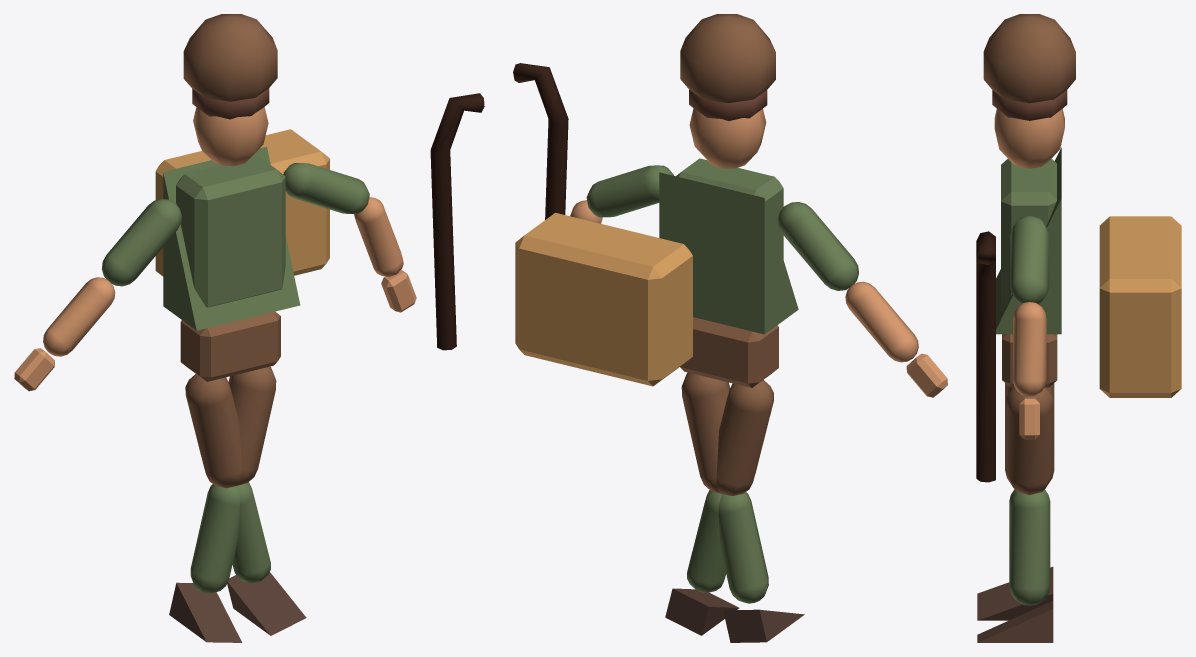
Rendered from adventurer.rustic.glb.
3 renders of one model, left to right at view 1: azimuth 30°, elevation 25°; view 2: azimuth 150°, elevation 25°; view 3: azimuth 270°, elevation 25°, orthographic.
Visible parts, largest first — view 1: torso, accessory.head, tunic, accessory.back, accessory.main-hand, pelvis, thigh.left, shin.right, upper-arm.left, thigh.right, head, upper-arm.right (+8 smaller); view 2: accessory.back, tunic, accessory.head, pelvis, thigh.left, shin.right, upper-arm.left, thigh.right, accessory.main-hand, head, forearm.left, upper-arm.right (+6 smaller); view 3: accessory.back, accessory.head, accessory.main-hand, shin.left, thigh.right, torso, upper-arm.right, head, forearm.right, tunic, foot.left, foot.right (+3 smaller).
Boxes of the visible parts, x1,y1,x2,y2 form: torso: (176, 156, 285, 307); accessory.head: (183, 14, 277, 101); tunic: (163, 146, 300, 330); accessory.back: (155, 129, 329, 276); accessory.main-hand: (430, 93, 484, 350); pelvis: (180, 311, 280, 381); thigh.left: (185, 374, 241, 488); shin.right: (190, 484, 239, 593); upper-arm.left: (102, 198, 181, 286); thigh.right: (228, 366, 276, 485); head: (193, 107, 268, 166); upper-arm.right: (283, 163, 369, 213); accessory.back: (515, 212, 692, 386); tunic: (659, 172, 798, 334); accessory.head: (680, 14, 775, 103); pelvis: (680, 317, 778, 387); thigh.left: (716, 380, 773, 495); shin.right: (718, 492, 768, 603); upper-arm.left: (777, 202, 858, 290); thigh.right: (681, 372, 729, 493); accessory.main-hand: (513, 63, 568, 219); head: (689, 108, 766, 168); forearm.left: (845, 281, 918, 362); upper-arm.right: (586, 165, 673, 217); accessory.back: (1099, 216, 1181, 397); accessory.head: (983, 14, 1075, 103); accessory.main-hand: (976, 231, 995, 482); shin.left: (1009, 490, 1050, 605); thigh.right: (1005, 387, 1054, 495); torso: (1001, 159, 1056, 309); upper-arm.right: (1010, 215, 1049, 304); head: (994, 109, 1064, 168); forearm.right: (1013, 302, 1046, 396); tunic: (996, 147, 1061, 334); foot.left: (977, 601, 1053, 642); foot.right: (977, 566, 1053, 620).
Size of the model in its own units: 2.52 by 3.28 by 1.
